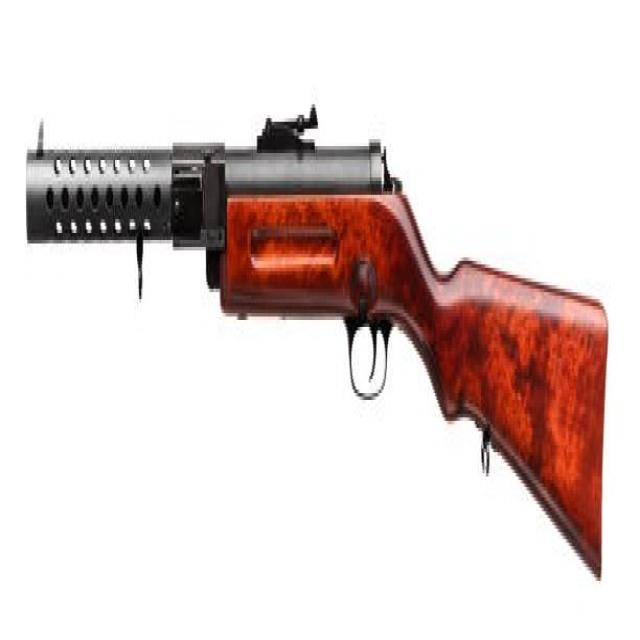rifle: (20, 103, 612, 593)
